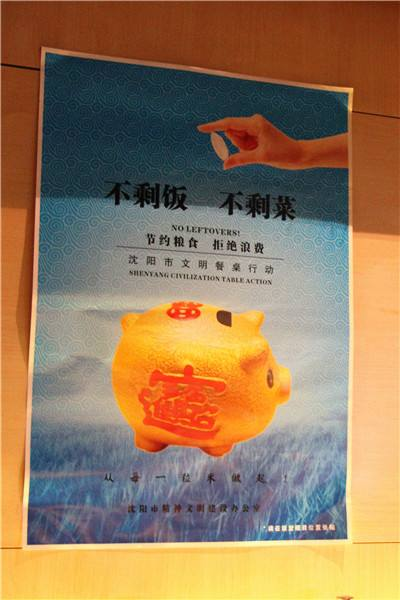bill: (25, 51, 349, 543)
